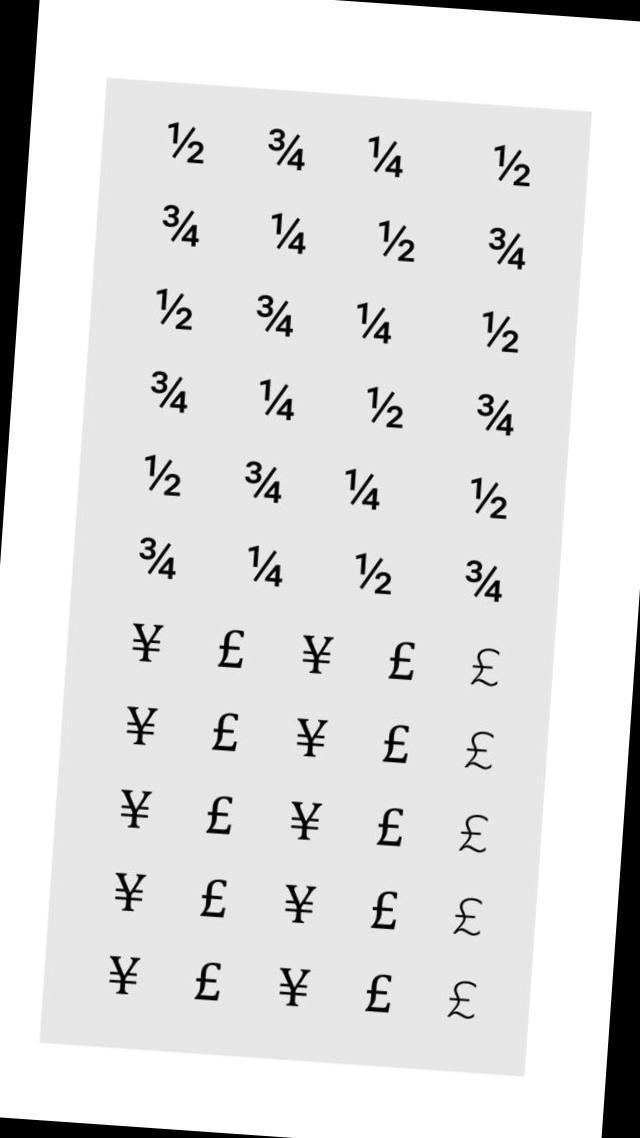ASCII: (156, 108, 214, 170), (458, 552, 510, 617), (349, 544, 398, 612), (465, 467, 515, 532), (350, 290, 398, 356), (360, 380, 410, 442), (251, 370, 300, 433), (242, 536, 290, 600), (470, 387, 520, 448), (477, 302, 526, 364), (140, 444, 188, 507), (338, 457, 385, 521), (373, 214, 422, 275), (238, 453, 288, 512), (144, 364, 194, 423), (482, 221, 532, 280), (133, 530, 182, 590), (156, 198, 205, 257), (264, 206, 312, 266), (152, 280, 200, 340), (250, 288, 299, 346), (262, 120, 310, 178), (486, 139, 536, 194), (442, 970, 484, 1034), (362, 128, 408, 186), (297, 621, 339, 684), (103, 946, 145, 1008), (274, 959, 316, 1020), (109, 860, 151, 921), (126, 612, 168, 672), (382, 628, 422, 690), (115, 780, 156, 840), (286, 792, 327, 852), (448, 885, 489, 944), (467, 640, 508, 699), (280, 874, 321, 932), (461, 724, 501, 783), (212, 617, 250, 678), (188, 953, 227, 1012), (121, 696, 162, 752), (292, 708, 333, 764), (455, 806, 495, 863), (199, 786, 238, 844), (194, 867, 233, 925), (204, 706, 243, 764), (365, 879, 403, 937), (360, 968, 398, 1026), (370, 799, 408, 856), (376, 718, 414, 775)
